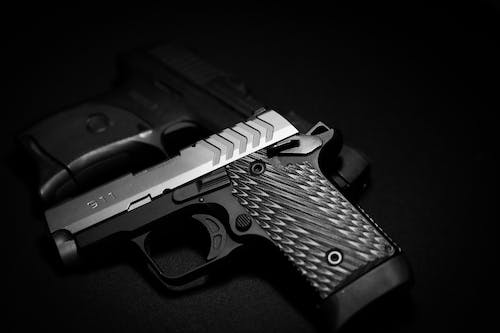gun: (40, 103, 416, 333), (10, 35, 378, 204)
